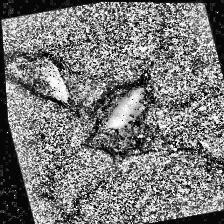pothole: (68, 72, 164, 166), (3, 41, 74, 115)
